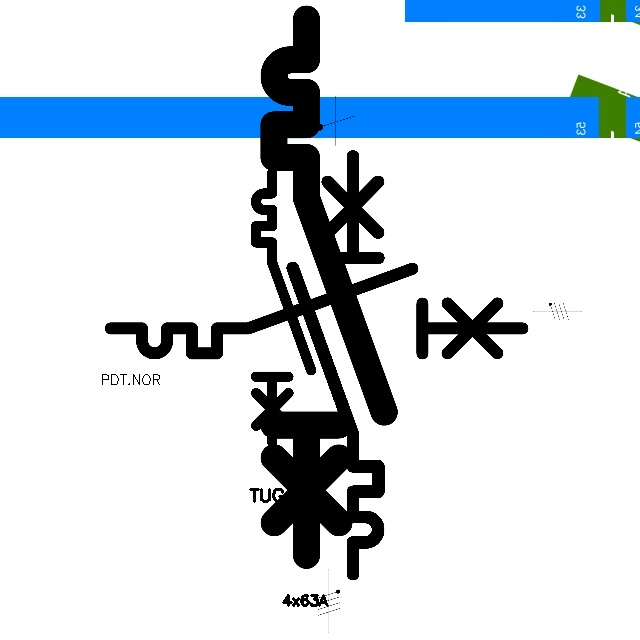interruptor_termomagnetico: (260, 5, 398, 569), (282, 145, 389, 585), (100, 258, 533, 364), (249, 166, 318, 449)
